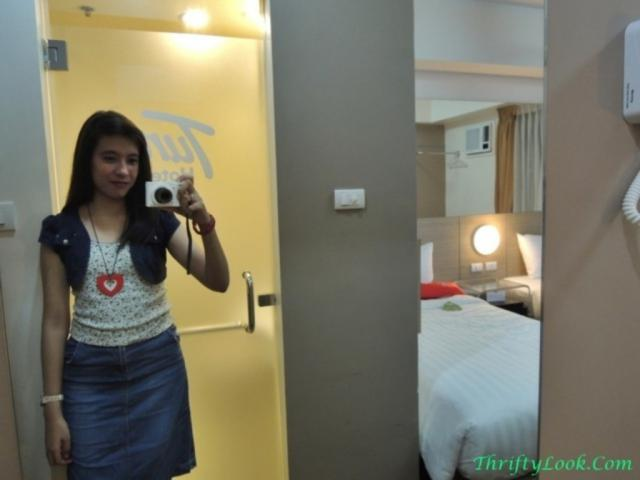Door-handle: (176, 319, 249, 340), (239, 268, 256, 333)
